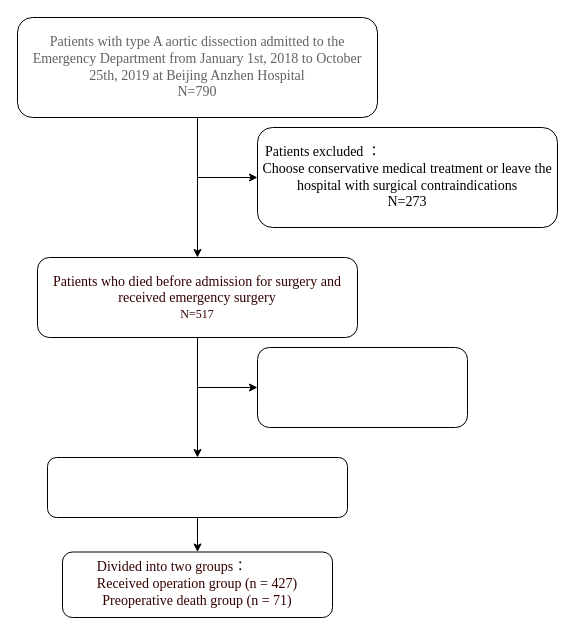
Image size: 575x635. Some labels were removed from this diagram. Each missing label, with the box of its shape:
Patients excluded ： Missing imaging and laboratory data N=19: (256, 346, 468, 428)
Patients finally were included in the analysis N=498: (46, 456, 348, 518)
